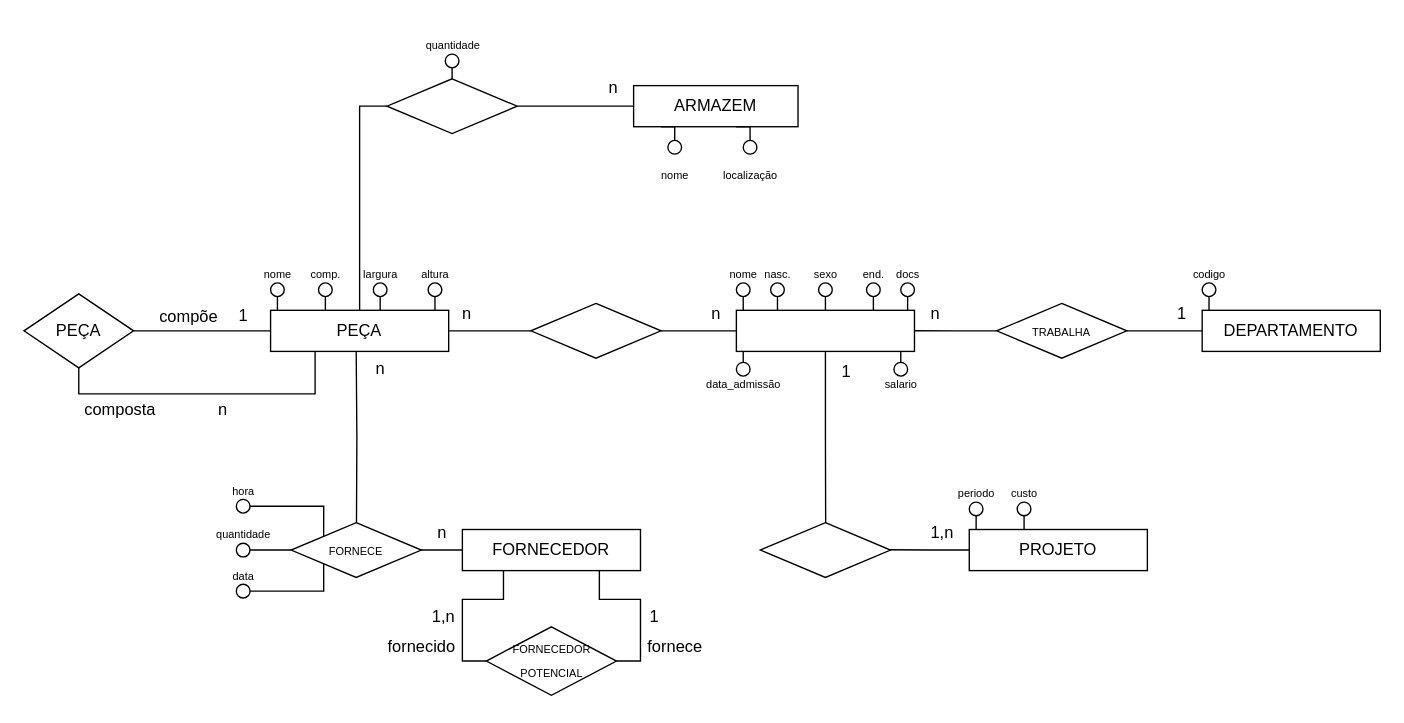
Some shapes in this 1404 by 723 pixel diagram are drawn without their labels. Here are the shapes that lost their labels. From the top down, the centre of each, then its label:
At point 451,105: "ESTA".
At point 595,330: "CONSOME".
At point 824,330: "EMPREGADO".
At point 825,549: "GERENCIA".
